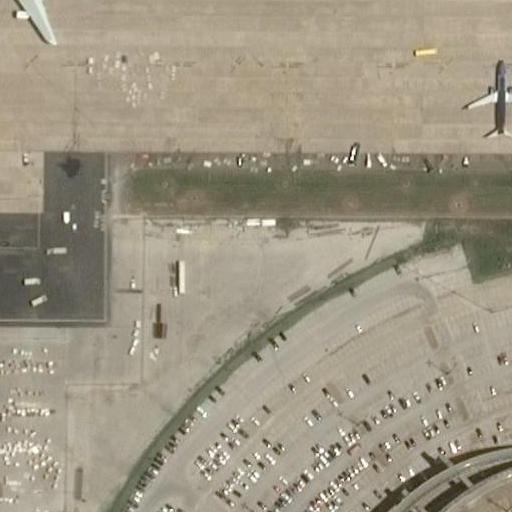Aircraft: (0, 0, 107, 46), (460, 59, 512, 139)
